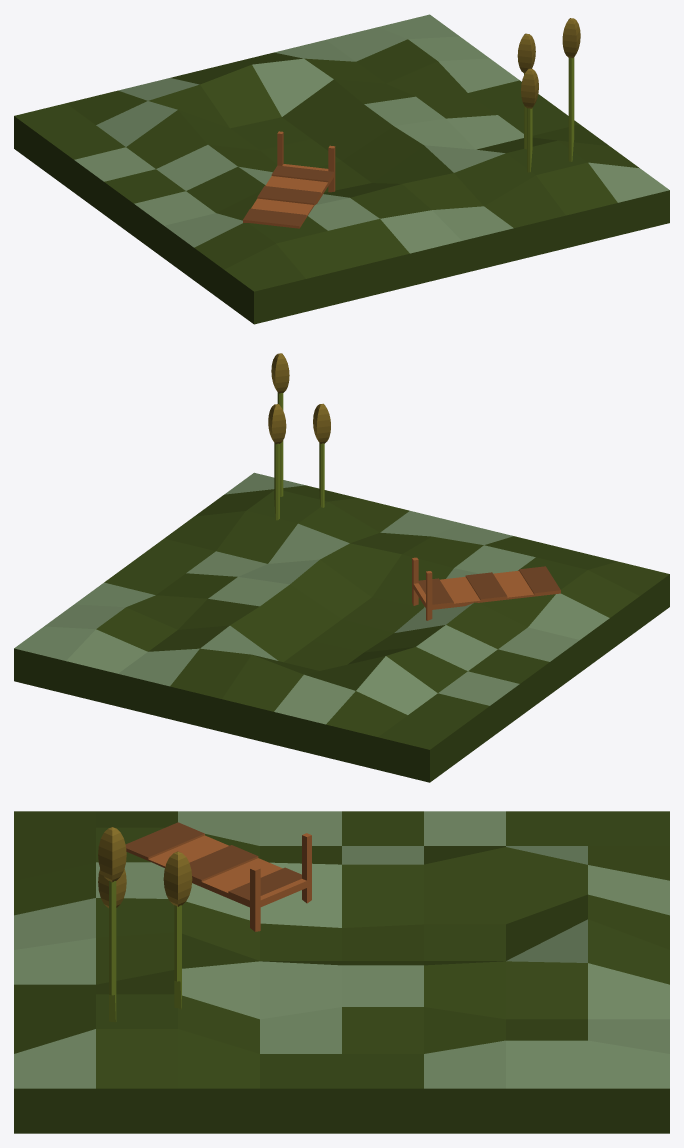
Rendered from Swamp.fbx.
3 views of the same model, one above another, from view 1: azimuth 30°, elevation 25°; view 2: azimuth 150°, elevation 25°; view 3: azimuth 270°, elevation 25° (orthographic). The views are drawn at different scales.
Parts seen in each view (by area): view 1: Swamp_T1, Reed_Base; view 2: Swamp_T1, Reed_Base; view 3: Swamp_T1, Reed_Base.
Part boxes in pixels (bbox=[...]): Swamp_T1: bbox=[14, 14, 669, 324]; Reed_Base: bbox=[517, 18, 580, 172]; Swamp_T1: bbox=[14, 472, 669, 782]; Reed_Base: bbox=[268, 353, 330, 520]; Swamp_T1: bbox=[14, 811, 669, 1133]; Reed_Base: bbox=[98, 827, 192, 1022].
Size of the model in its own units: 200 by 89 by 200.
